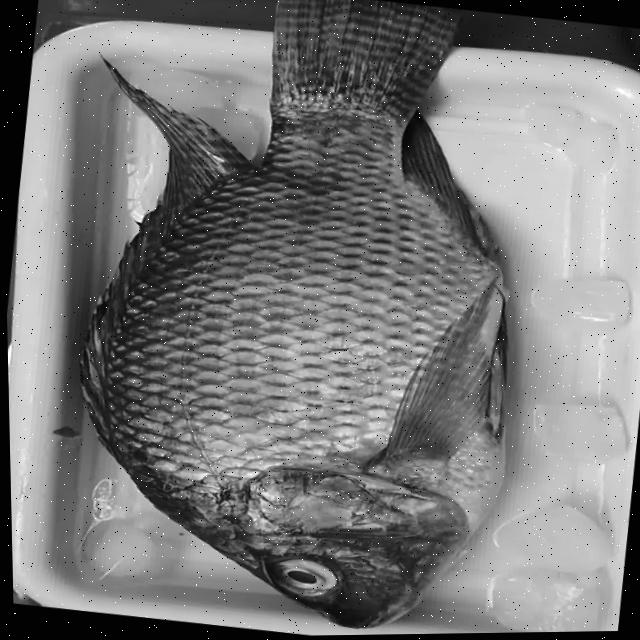Fresh: (84, 191, 525, 562), (245, 545, 350, 610)
